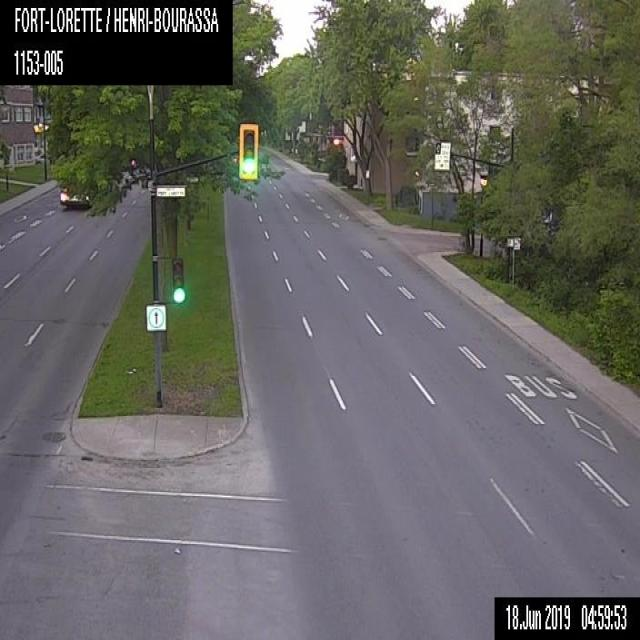bus: (57, 188, 90, 209)
